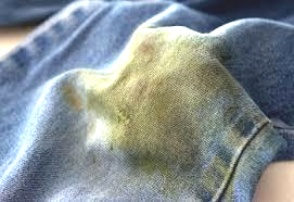earth: (84, 60, 209, 161)
